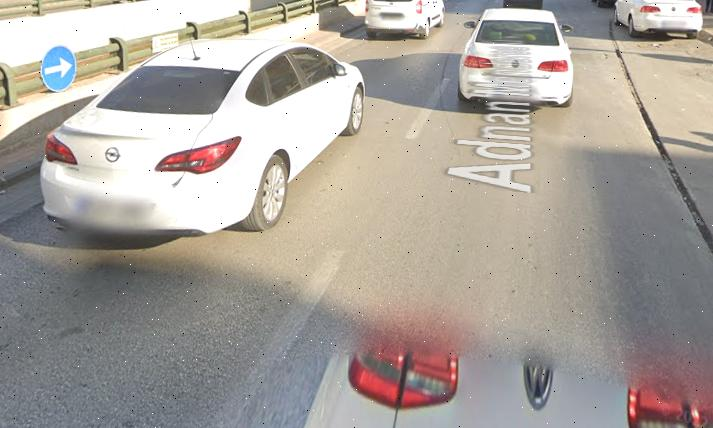turnright: (44, 48, 76, 89)
